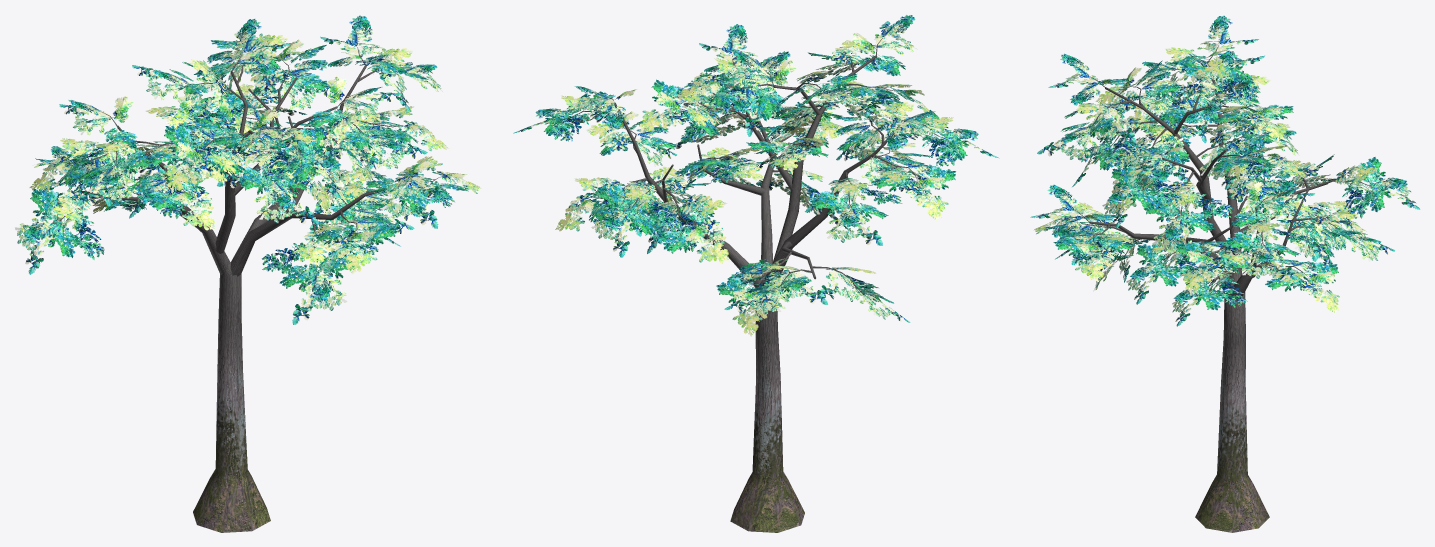
File: quercus_A_packed_v1.obj
3 views of the same model, side by side, from view 1: azimuth 30°, elevation 25°; view 2: azimuth 150°, elevation 25°; view 3: azimuth 270°, elevation 25° (orthographic). The views are drawn at different scales.
Parts seen in each view (by area): view 1: Quercus_A_X_Quercus_A, Branch_2.002_X_Branch_2, Branch_2B.002_X_Branch_2B, Branch_3B.002_X_Branch_3B, Branch_2B.001_X_Branch_2B, Branch_3B.009_X_Branch_3B, Branch_2.004_X_Branch_2, Branch_3B.005_X_Branch_3B, Branch_2.001_X_Branch_2, Branch_2B.008_X_Branch_2B, Branch_3.003_X_Branch_3, Branch_3.006_X_Branch_3 (+21 smaller); view 2: Quercus_A_X_Quercus_A, Branch_3B.007_X_Branch_3B, Branch_2B.004_X_Branch_2B, Branch_2B.003_X_Branch_2B, Branch_3.004_X_Branch_3, Branch_3.006_X_Branch_3, Branch_3B.004_X_Branch_3B, Branch_3B.005_X_Branch_3B, Branch_3.005_X_Branch_3, Branch_2.005_X_Branch_2, Branch_3.001_X_Branch_3, Branch_3B.008_X_Branch_3B (+21 smaller); view 3: Quercus_A_X_Quercus_A, Branch_2B.005_X_Branch_2B, Branch_2B.007_X_Branch_2B, Branch_2.005_X_Branch_2, Branch_2.001_X_Branch_2, Branch_2.003_X_Branch_2, Branch_2B.008_X_Branch_2B, Branch_3B.001_X_Branch_3B, Branch_3B.003_X_Branch_3B, Branch_3.001_X_Branch_3, Branch_3B.008_X_Branch_3B, Branch_2B.006_X_Branch_2B (+23 smaller).
Boxes of the visible parts, x1,y1,x2,y2 form: Quercus_A_X_Quercus_A: (81,65,406,532); Branch_2.002_X_Branch_2: (262,218,358,324); Branch_2B.002_X_Branch_2B: (15,189,104,274); Branch_3B.002_X_Branch_3B: (163,117,248,193); Branch_2B.001_X_Branch_2B: (217,137,318,224); Branch_3B.009_X_Branch_3B: (124,163,214,230); Branch_2.004_X_Branch_2: (63,138,165,205); Branch_3B.005_X_Branch_3B: (244,39,337,112); Branch_2.001_X_Branch_2: (250,127,341,198); Branch_2B.008_X_Branch_2B: (317,109,427,171); Branch_3.003_X_Branch_3: (313,211,400,274); Branch_3.006_X_Branch_3: (29,138,141,206); Quercus_A_X_Quercus_A: (614,55,898,532); Branch_3B.007_X_Branch_3B: (639,188,729,263); Branch_2B.004_X_Branch_2B: (591,179,682,257); Branch_2B.003_X_Branch_2B: (805,172,902,245); Branch_3.004_X_Branch_3: (676,57,785,136); Branch_3.006_X_Branch_3: (871,154,955,220); Branch_3B.004_X_Branch_3B: (716,251,799,336); Branch_3B.005_X_Branch_3B: (639,79,735,136); Branch_3.005_X_Branch_3: (555,177,658,236); Branch_2.005_X_Branch_2: (724,265,827,313); Branch_3.001_X_Branch_3: (833,102,914,161); Branch_3B.008_X_Branch_3B: (586,111,677,166); Quercus_A_X_Quercus_A: (1089,61,1327,532); Branch_2B.005_X_Branch_2B: (1143,172,1233,263); Branch_2B.007_X_Branch_2B: (1219,220,1313,280); Branch_2.005_X_Branch_2: (1317,157,1420,218); Branch_2.001_X_Branch_2: (1037,101,1136,159); Branch_2.003_X_Branch_2: (1173,50,1264,110); Branch_2B.008_X_Branch_2B: (1102,163,1182,228); Branch_3B.001_X_Branch_3B: (1053,223,1132,281); Branch_3B.003_X_Branch_3B: (1196,109,1290,181); Branch_3.001_X_Branch_3: (1125,78,1219,143); Branch_3B.008_X_Branch_3B: (1176,240,1255,293); Branch_2B.006_X_Branch_2B: (1126,240,1204,304).
Bounding box in the file's own units: 10.83 × 11.65 × 9.2.
Materials: 1 (1 with a texture image).
